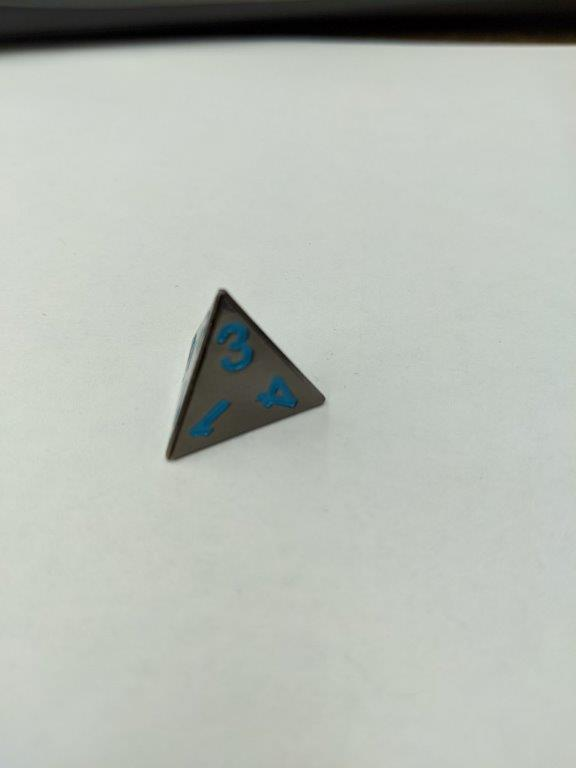d4-3: (162, 284, 327, 464)
